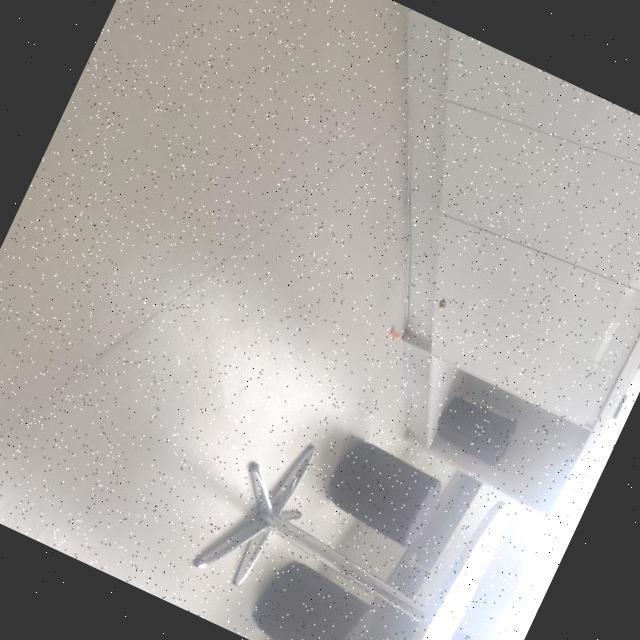ping-pong-ball: (389, 330, 402, 342)
